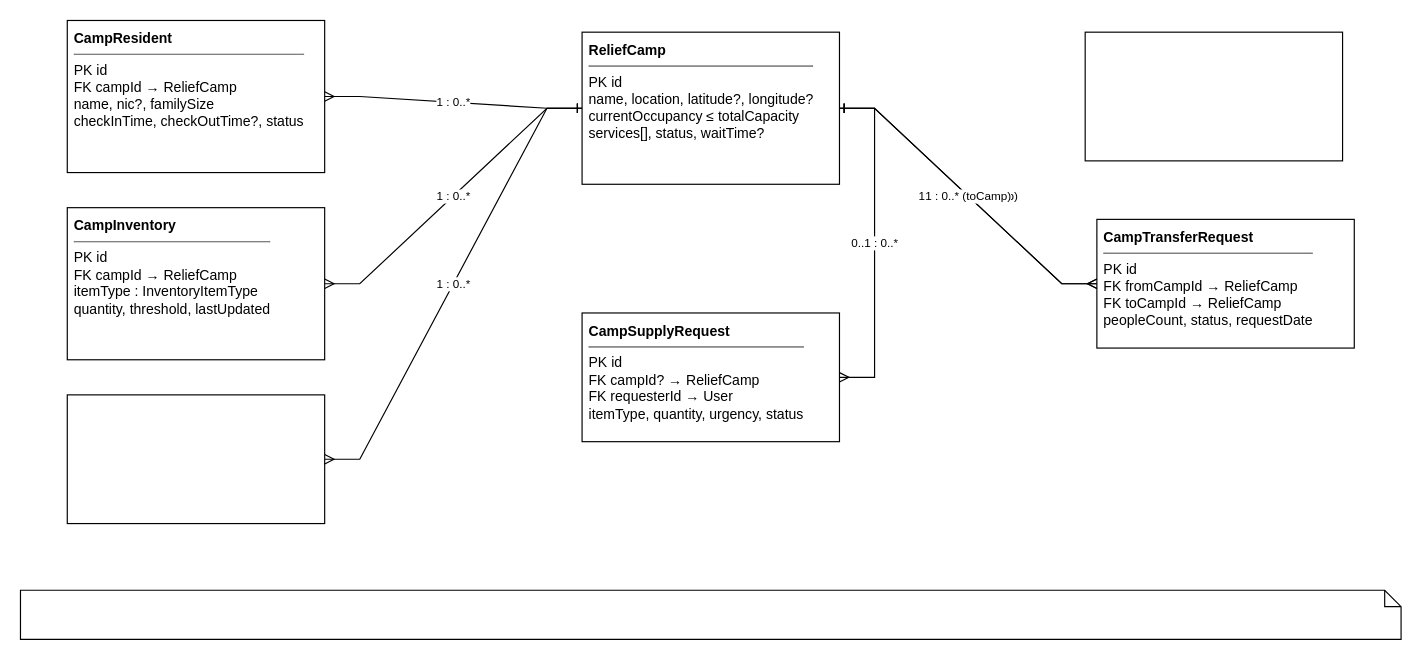
Image size: 1422x660. Some labels were removed from this diagram. Each missing label, with the centre of its shape:
"CampSchedule PK id FK campId → ReliefCamp activityName, startTime, endTime, type" belongs at point 195,459.
"Resource is a standalone registry (no foreign key)." belongs at point 710,614.
"Resource PK id (no FK) type, owner, location capacity, status, contact" belongs at point 1213,96.
